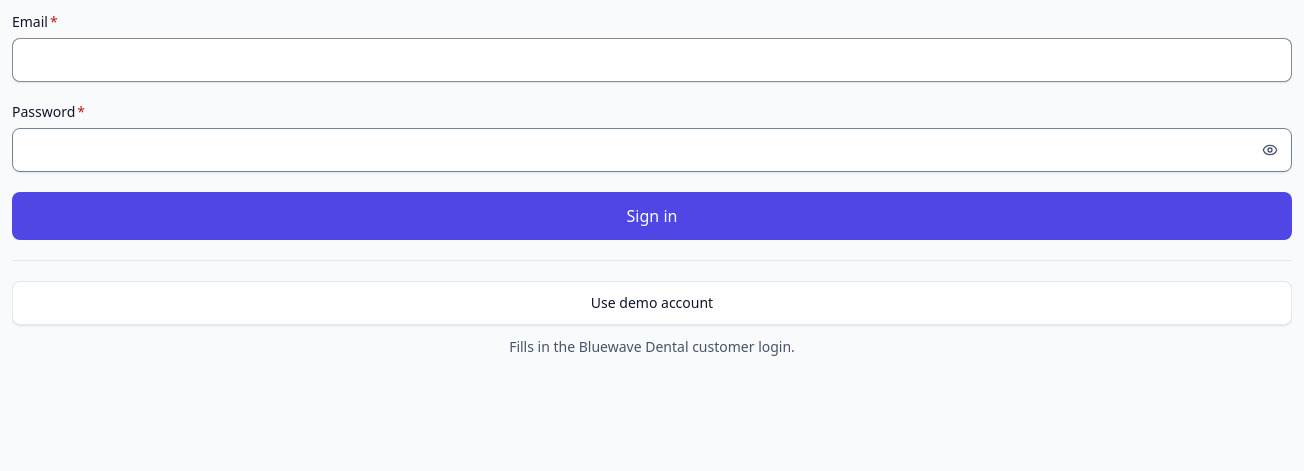
Test: LoginForm › shows a form-level alert for wrong credentials and returns focus to the password
In the field labelled "Email*": (652, 60) [12,38,1292,82], type "customer@bluewave.test"
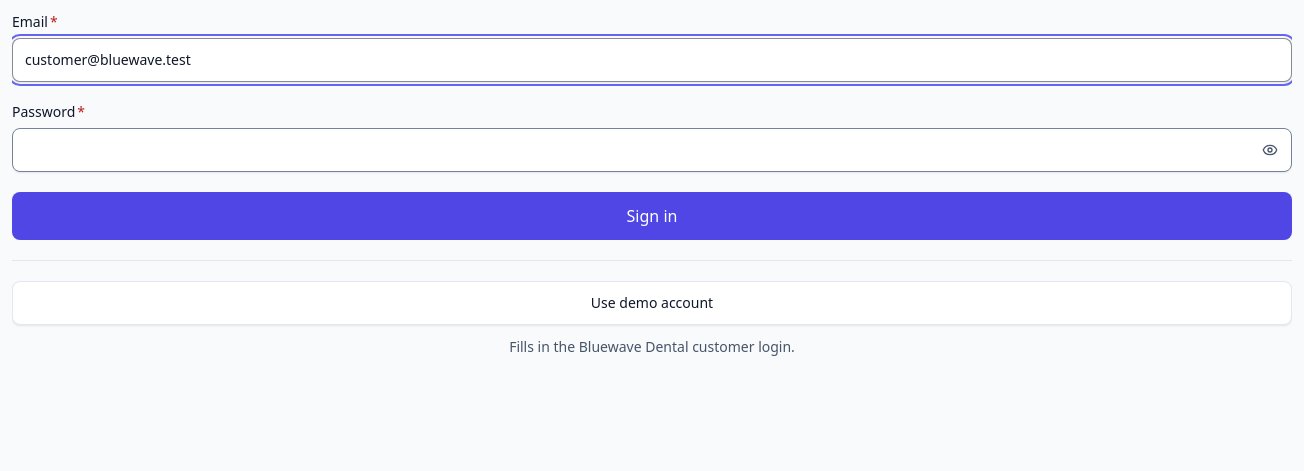
In the password field labelled "Password*": (652, 150) [12,128,1292,172], type "wrong-password"
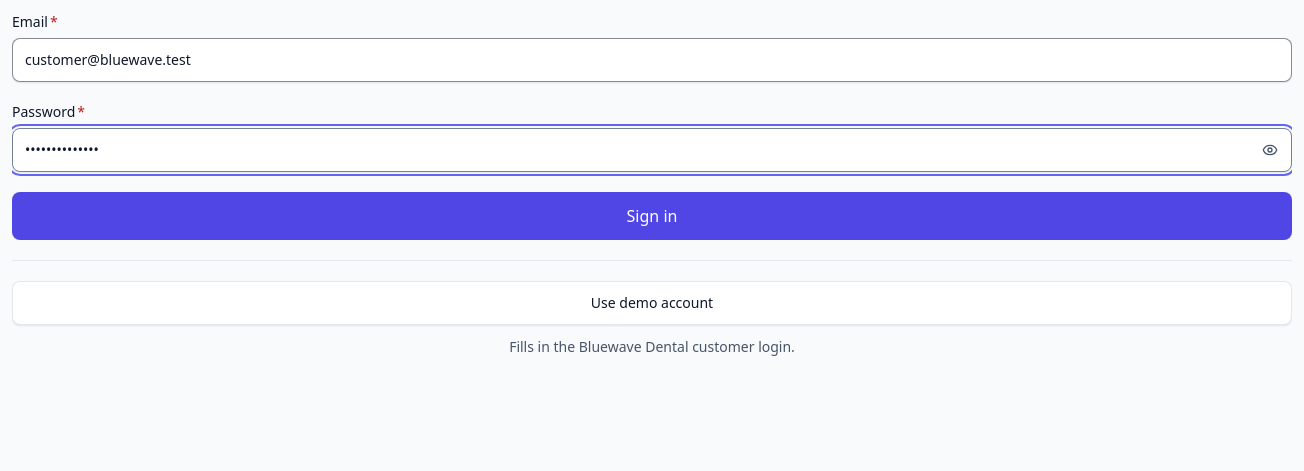
Click the button "Sign in": (652, 216) [12,192,1292,240]
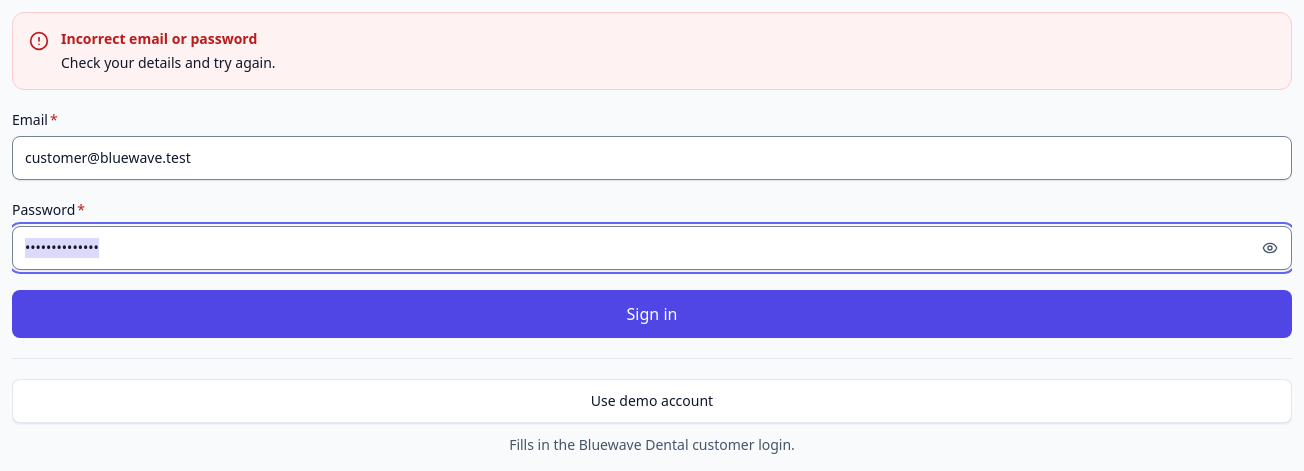
Expected: the button "Sign in" is enabled, [12,290,1292,338]
Result: the message shows "Incorrect email or password" at [61,29,257,48]
